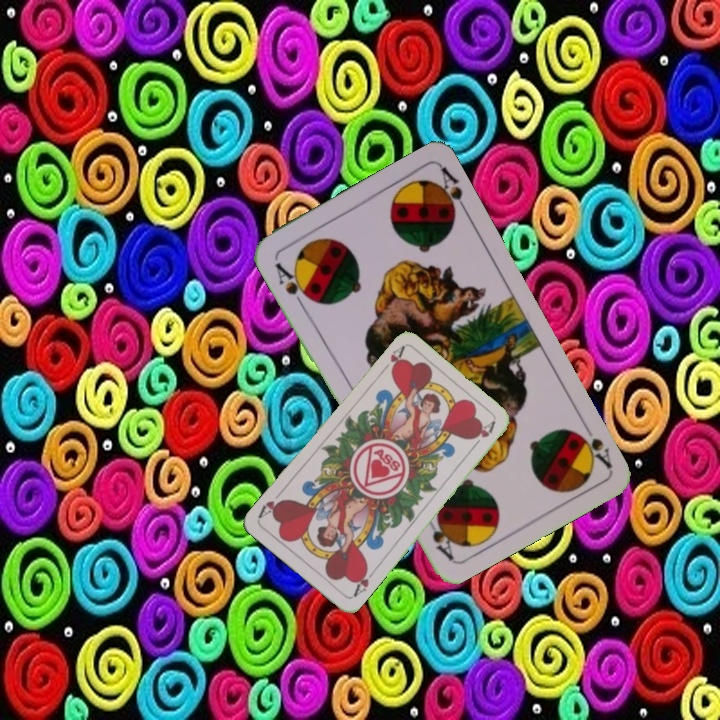HA: (349, 563, 378, 600), (376, 343, 407, 377)
SA: (569, 417, 615, 471), (271, 258, 314, 310)
